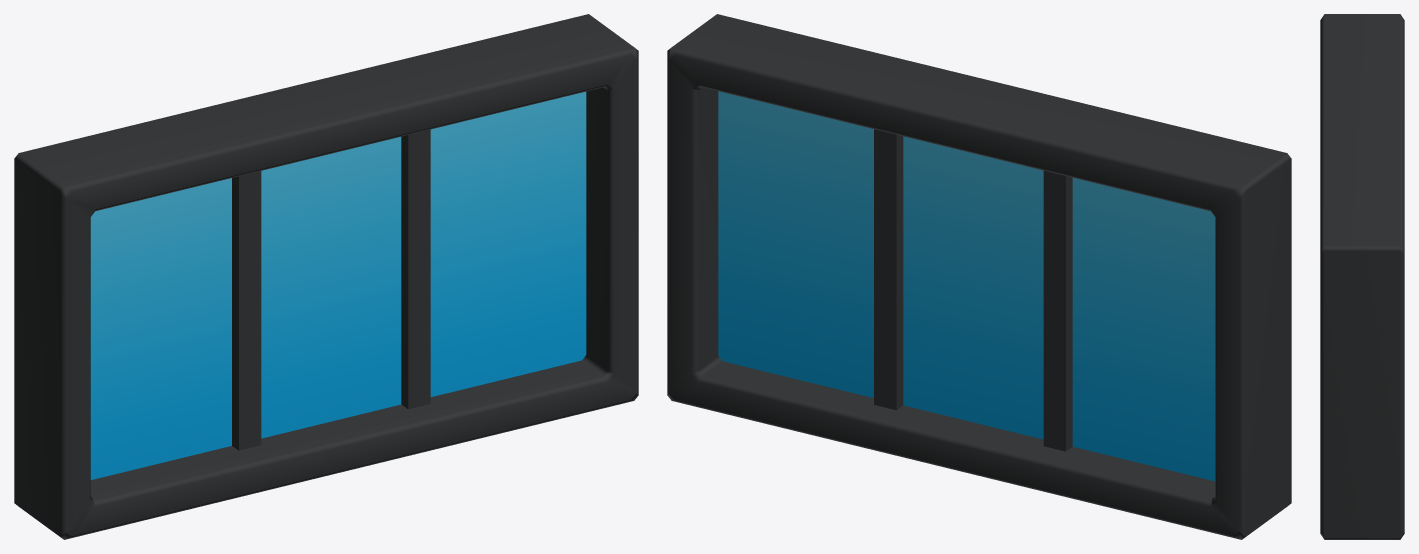
The model's file is Window_Black_07.glb.
3 renders of one model, left to right at view 1: azimuth 30°, elevation 25°; view 2: azimuth 150°, elevation 25°; view 3: azimuth 270°, elevation 25°, orthographic. The views are drawn at different scales.
Visible parts, largest first — view 1: Window_Black_07; view 2: Window_Black_07; view 3: Window_Black_07.
Boxes of the visible parts, <box> form: Window_Black_07: <box>14,14,638,539</box>; Window_Black_07: <box>667,14,1291,539</box>; Window_Black_07: <box>1320,14,1404,539</box>.
Bounding box in the file's own units: 2.64 × 1.54 × 0.4.
Materials: 2 (2 with a texture image).
